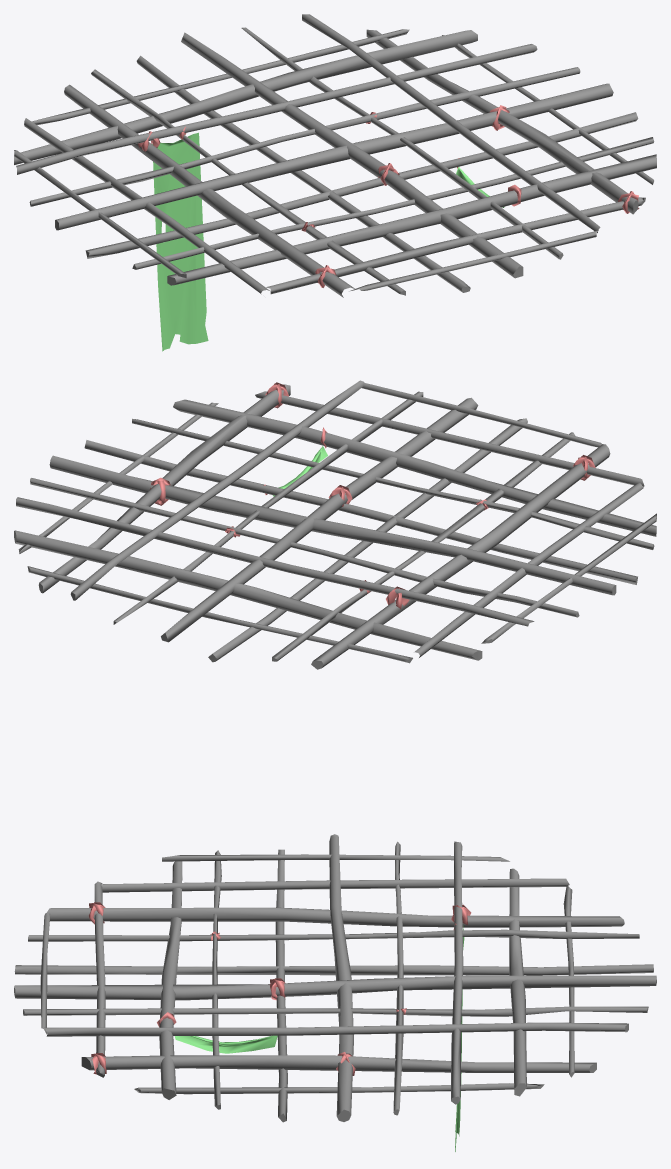
File: fence_generic_village_A.gltf
The picture shows the model from 3 angles, top to bottom: view 1: azimuth 30°, elevation 25°; view 2: azimuth 150°, elevation 25°; view 3: azimuth 270°, elevation 25°; orthographic projection.
Parts seen in each view (by area): view 1: fence_generic_village_A; view 2: fence_generic_village_A; view 3: fence_generic_village_A.
Boxes of the visible parts, box(x1,y1,x2,y2) form: fence_generic_village_A: box(14, 14, 656, 351); fence_generic_village_A: box(14, 380, 656, 669); fence_generic_village_A: box(14, 834, 656, 1151).
Size of the model in its own units: 6.3 by 2.4 by 6.27.
